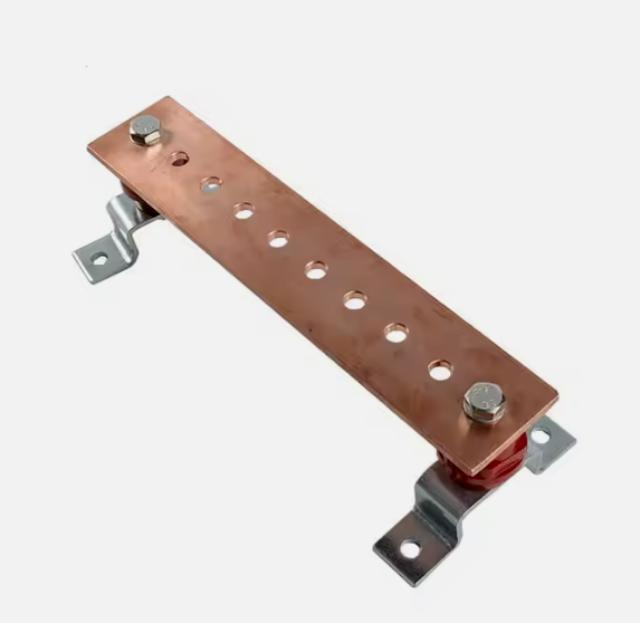busbar: (71, 94, 578, 586)
